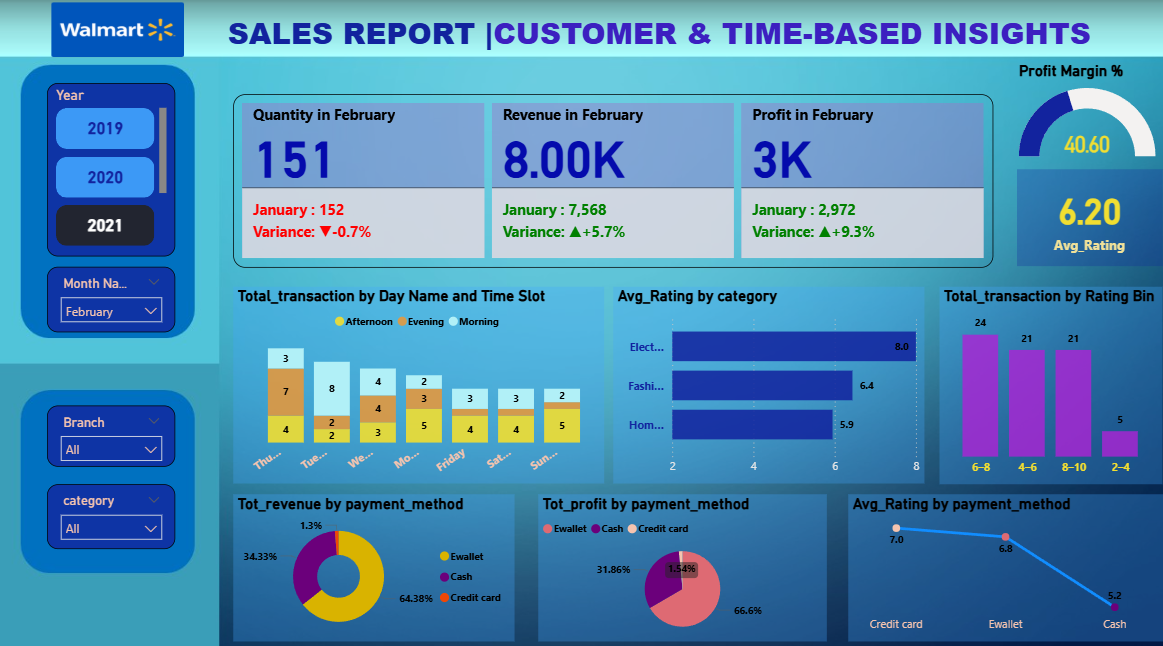

Layout of this report page (visuals, bound fields, positions):
{"tool":"powerbi","page":{"name":"Page 2","canvas":[1280,720],"ordinal":1},"visuals":[{"type":"slicer","fields":{"Values":["walmart_clean.Branch"]},"box":[54.3,447.6,141.2,67.6],"z":0},{"type":"advancedSlicerVisual","fields":{"Values":["calendar.Year"]},"box":[54.3,92.9,141.2,190.6],"z":1000},{"type":"columnChart","fields":{"Series":["walmart_clean.Time Slot"],"Category":["calendar.Day Name"],"Y":["walmart_clean.Total_transaction"]},"box":[260,317.1,407.1,215.7],"z":2000},{"type":"clusteredColumnChart","fields":{"Category":["walmart_clean.Rating Bin"],"Y":["walmart_clean.Total_transaction"]},"box":[1035,316.7,245,216.7],"z":3000},{"type":"slicer","fields":{"Values":["calendar.Month Name"]},"box":[54.3,294.4,141.2,72.4],"z":4000},{"type":"card","fields":{"Values":["walmart_clean.Avg_Rating"]},"box":[1120,188.3,160,106.7],"z":5000},{"type":"cardVisual","fields":{"Data":["walmart_clean.Tot_Qty","walmart_clean.Tot_revenue","walmart_clean.Tot_profit"]},"box":[260,105.7,834.3,190],"z":6000},{"type":"slicer","fields":{"Values":["walmart_clean.category"]},"box":[54.3,533.2,141.2,71.2],"z":7000},{"type":"clusteredBarChart","fields":{"Category":["walmart_clean.category"],"Y":["walmart_clean.Avg_Rating"]},"box":[677.1,317.1,341.4,215.7],"z":8000},{"type":"gauge","title":"Profit Margin %","fields":{"MinValue":["walmart_clean.Gauge Min Profit Margin"],"MaxValue":["walmart_clean.Gauge Max Profit Margin"],"Y":["walmart_clean.Profit Margin %"]},"box":[1116.7,70,160,118.3],"z":9000},{"type":"image","box":[55,0,155,70],"z":10000},{"type":"textbox","box":[248.6,11.4,1031.4,70],"z":11000},{"type":"pieChart","fields":{"Category":["walmart_clean.payment_method"],"Y":["walmart_clean.Tot_profit"]},"box":[594.3,544.3,317.1,161.4],"z":12000},{"type":"lineChart","fields":{"Category":["walmart_clean.payment_method"],"Y":["walmart_clean.Avg_Rating"]},"box":[934.3,544.3,345.7,161.4],"z":13000},{"type":"donutChart","fields":{"Category":["walmart_clean.payment_method"],"Y":["walmart_clean.Tot_revenue"]},"box":[260,544.3,308.6,161.4],"z":14000}]}

Visuals, with their boxes in screenshot pixels (x1, y1, x2, y2), scaled from the page's 1280x720 canvas onto the 1163x646 screenshot:
slicer - walmart_clean.Branch: (49, 402, 178, 462)
advancedSlicerVisual - calendar.Year: (49, 83, 178, 254)
columnChart - walmart_clean.Time Slot x calendar.Day Name: (236, 285, 606, 478)
clusteredColumnChart - walmart_clean.Rating Bin x walmart_clean.Total_transaction: (940, 284, 1162, 479)
slicer - calendar.Month Name: (49, 264, 178, 329)
card - walmart_clean.Avg_Rating: (1018, 169, 1162, 265)
cardVisual - walmart_clean.Tot_Qty x walmart_clean.Tot_revenue: (236, 95, 994, 265)
slicer - walmart_clean.category: (49, 478, 178, 542)
clusteredBarChart - walmart_clean.category x walmart_clean.Avg_Rating: (615, 285, 925, 478)
"Profit Margin %" gauge: (1015, 63, 1160, 169)
image: (50, 0, 191, 63)
textbox: (226, 10, 1162, 73)
pieChart - walmart_clean.payment_method x walmart_clean.Tot_profit: (540, 488, 828, 633)
lineChart - walmart_clean.payment_method x walmart_clean.Avg_Rating: (849, 488, 1162, 633)
donutChart - walmart_clean.payment_method x walmart_clean.Tot_revenue: (236, 488, 517, 633)
